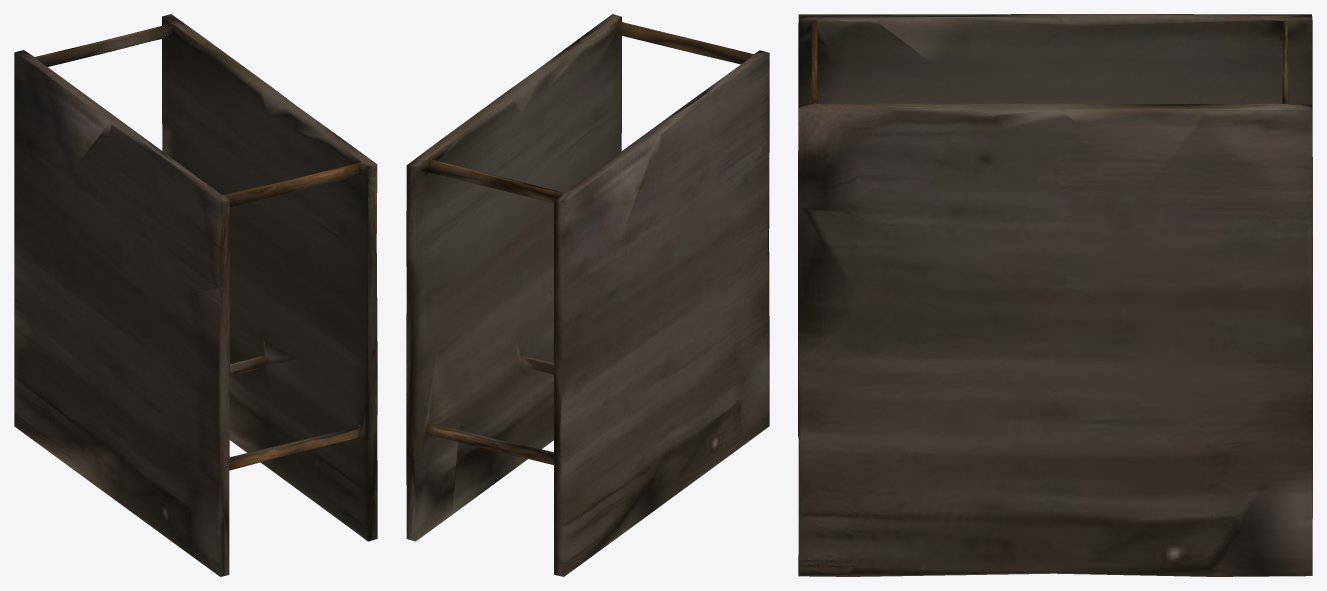
File: 木梁天花板.glb
3 views of the same model, side by side, from view 1: azimuth 30°, elevation 25°; view 2: azimuth 150°, elevation 25°; view 3: azimuth 270°, elevation 25° (orthographic). The views are drawn at different scales.
Visible parts, largest first — view 1: tripo_node_c22019e0-7adf-4779-8bd9-b05a7e5ab04e; view 2: tripo_node_c22019e0-7adf-4779-8bd9-b05a7e5ab04e; view 3: tripo_node_c22019e0-7adf-4779-8bd9-b05a7e5ab04e.
Boxes of the visible parts, x1,y1,x2,y2 form: tripo_node_c22019e0-7adf-4779-8bd9-b05a7e5ab04e: [14, 14, 377, 576]; tripo_node_c22019e0-7adf-4779-8bd9-b05a7e5ab04e: [406, 14, 769, 576]; tripo_node_c22019e0-7adf-4779-8bd9-b05a7e5ab04e: [798, 14, 1312, 576].
Bounding box in the file's own units: 0.4396 × 0.9999 × 0.9969.
Materials: 1 (1 with a texture image).
